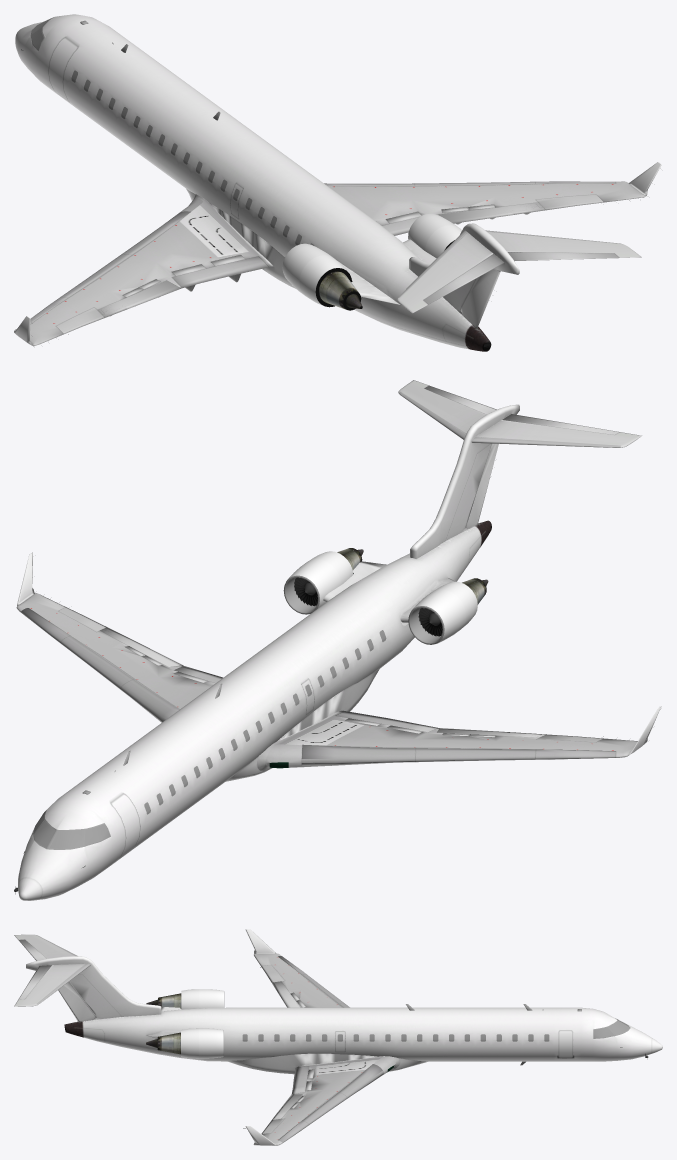
Rendered from crj700.glb.
3 renders of one model, top to bottom at view 1: azimuth 30°, elevation 25°; view 2: azimuth 150°, elevation 25°; view 3: azimuth 270°, elevation 25°, orthographic. The views are drawn at different scales.
Parts seen in each view (by area): view 1: Fuselage, Wings, Hstabs, Vstab, FlapL1, Belly, SlatsL, Rudder, Windows, Nozzle_001, FlapR2, Nacelle_001 (+12 smaller); view 2: Fuselage, Wings, Hstabs, Vstab, SlatsL, SlatsR, Belly, CockpitWindows, Nacelle_001, Windows, Nacelle, LeftDoor (+3 smaller); view 3: Fuselage, Wings, Vstab, Hstabs, Belly, SlatsR, Windows, Nacelle, Rudder, Winglets, Reverser, Nozzle (+8 smaller).
Part boxes in pixels (box(x1,y1,x2,y2)): Fuselage: box(15, 14, 491, 351); Wings: box(14, 181, 645, 346); Hstabs: box(397, 230, 641, 313); Vstab: box(409, 223, 519, 327); FlapL1: box(172, 256, 269, 291); Belly: box(186, 189, 295, 288); SlatsL: box(30, 211, 190, 323); Rudder: box(460, 269, 500, 328); Windows: box(71, 70, 314, 245); Nozzle_001: box(319, 271, 361, 309); FlapR2: box(438, 203, 545, 224); Nacelle_001: box(282, 243, 332, 295); Fuselage: box(18, 520, 491, 900); Wings: box(16, 593, 637, 771); Hstabs: box(398, 380, 641, 447); Vstab: box(410, 404, 519, 558); SlatsL: box(301, 744, 615, 765); SlatsR: box(21, 608, 179, 722); Belly: box(226, 669, 379, 781); CockpitWindows: box(34, 811, 109, 848); Nacelle_001: box(411, 589, 466, 643); Windows: box(144, 630, 386, 814); Nacelle: box(287, 559, 341, 608); LeftDoor: box(110, 793, 140, 857); Fuselage: box(64, 1007, 662, 1061); Wings: box(253, 953, 399, 1145); Vstab: box(26, 956, 161, 1021); Hstabs: box(14, 934, 90, 1006); Belly: box(227, 1053, 427, 1074); SlatsR: box(278, 1064, 383, 1142); Windows: box(242, 1034, 549, 1041); Nacelle: box(199, 1028, 223, 1058); Rudder: box(58, 981, 96, 1021); Winglets: box(245, 929, 276, 1145); Reverser: box(181, 1028, 198, 1058); Nozzle: box(146, 1032, 180, 1054).
Bounding box in the file's own units: 23.29 × 6.09 × 32.46.
Materials: 11 (5 with a texture image).
